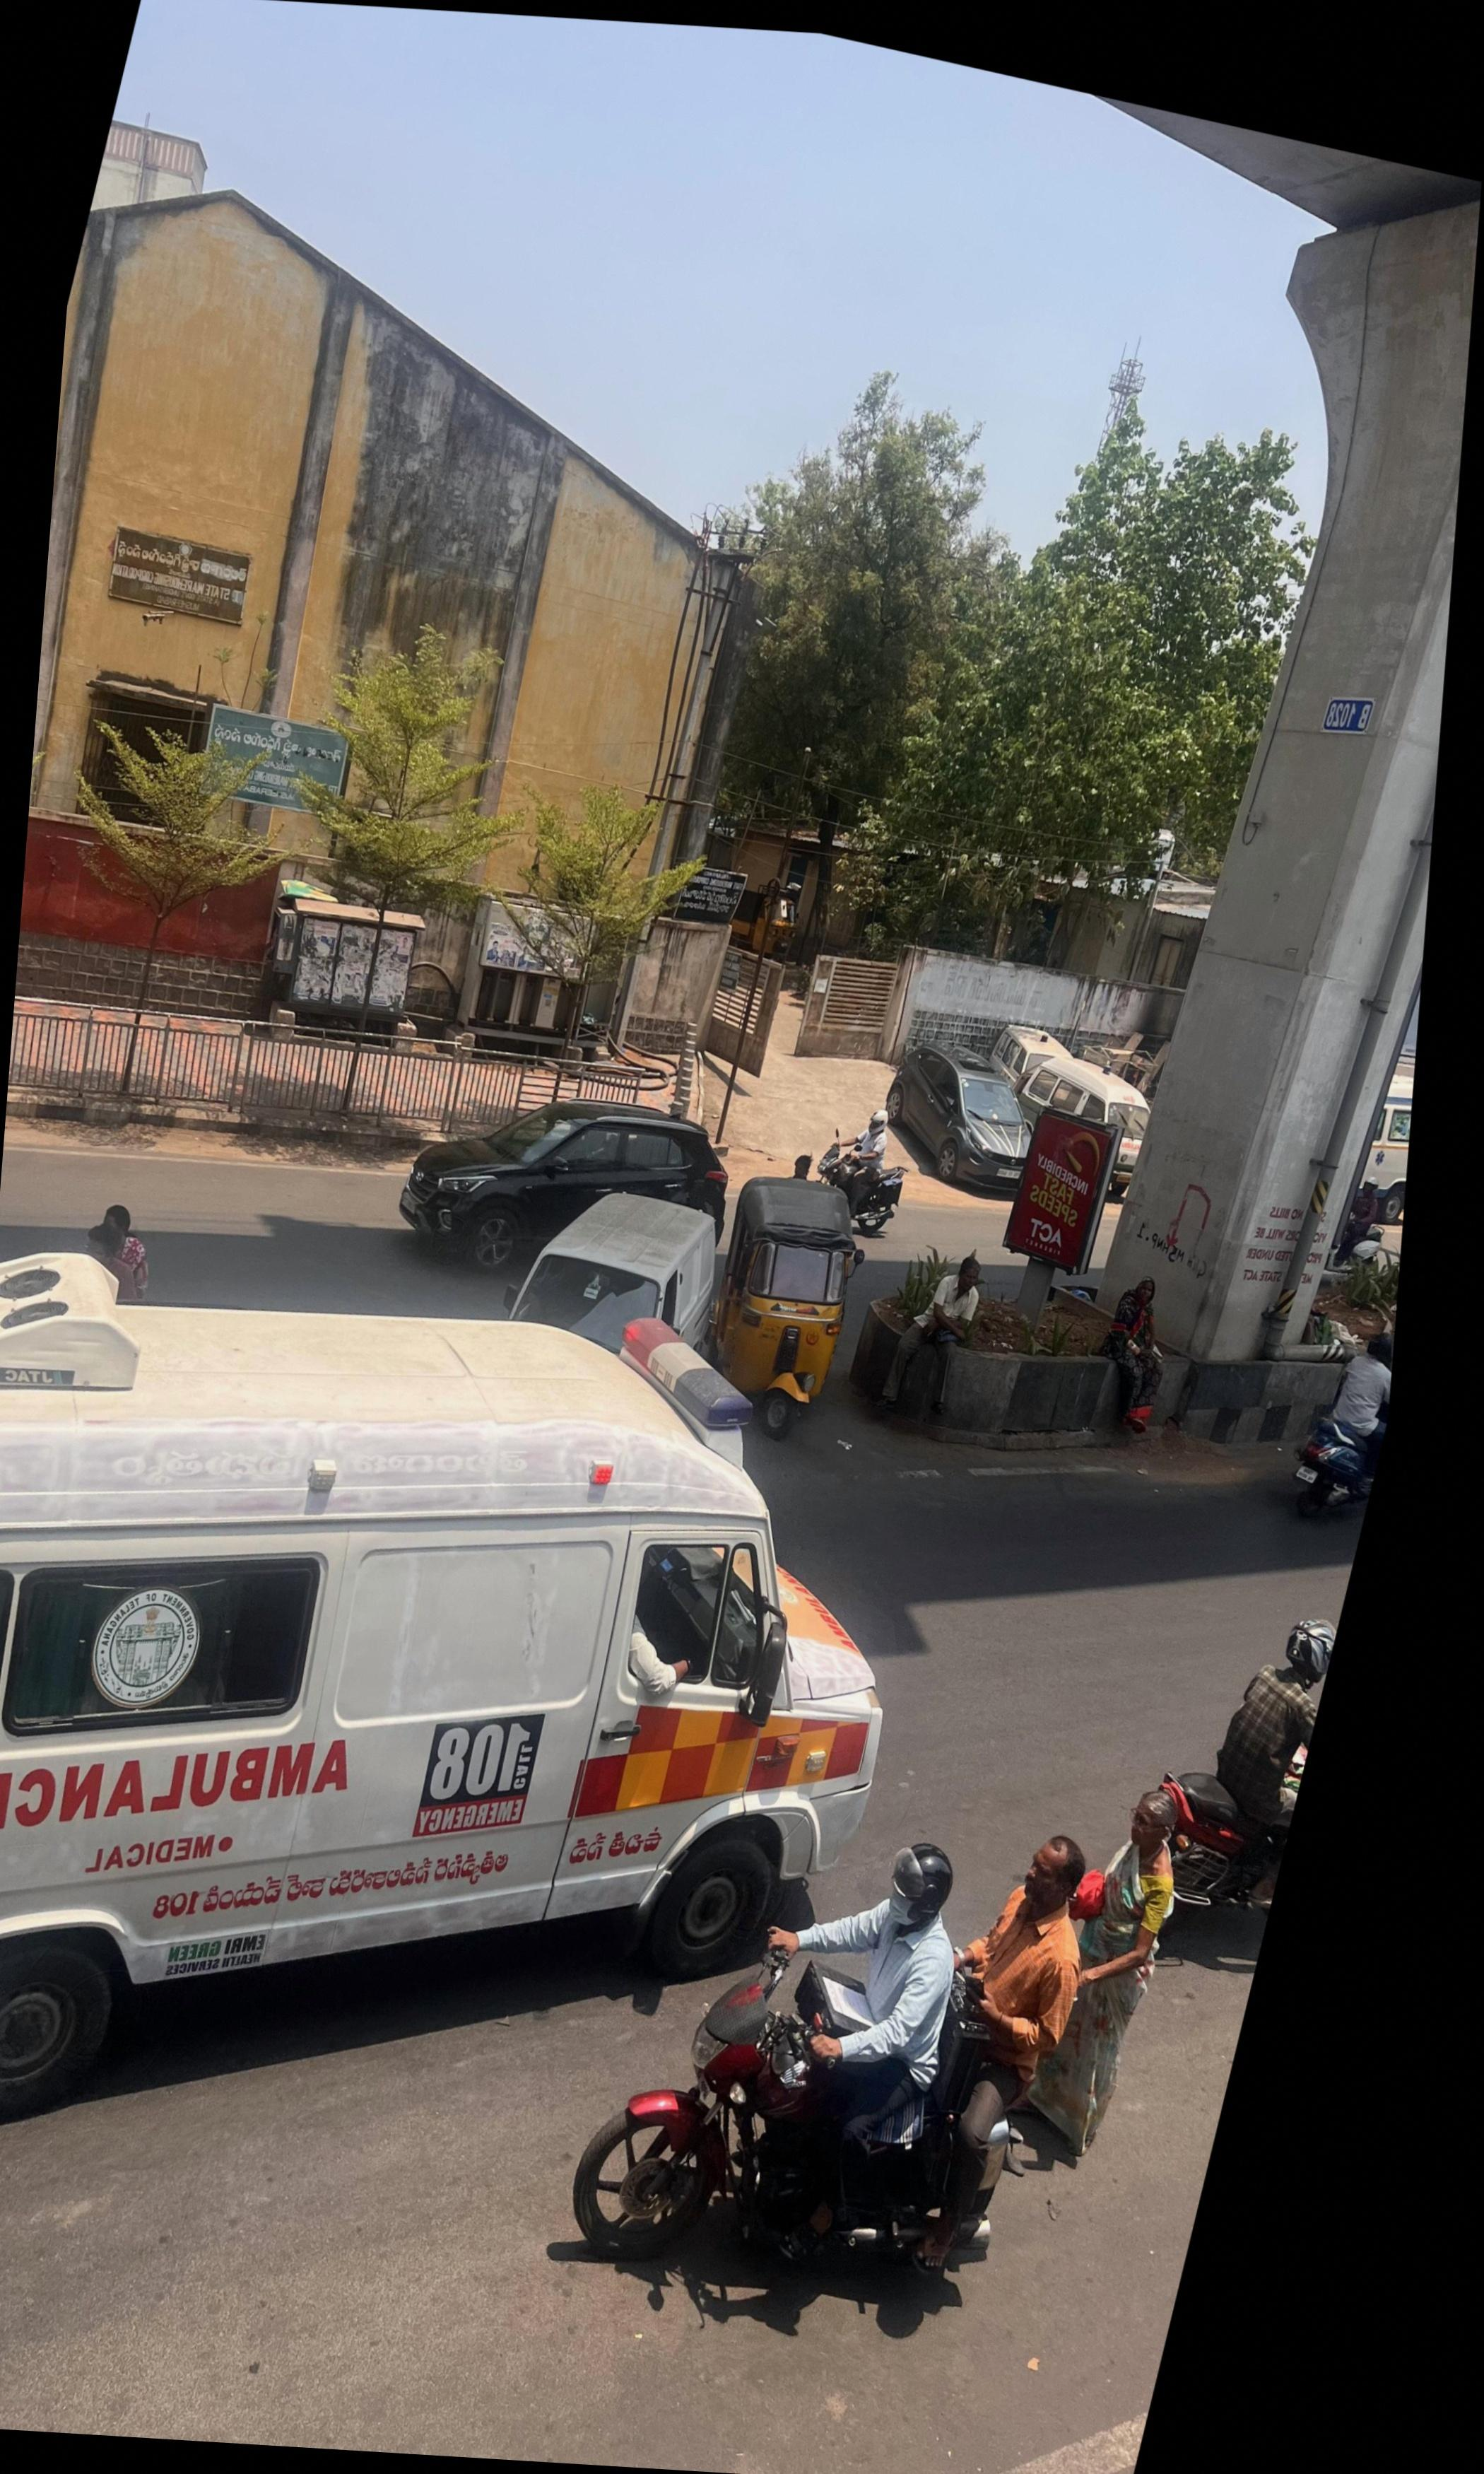ambulance: (0, 1241, 880, 2110)
